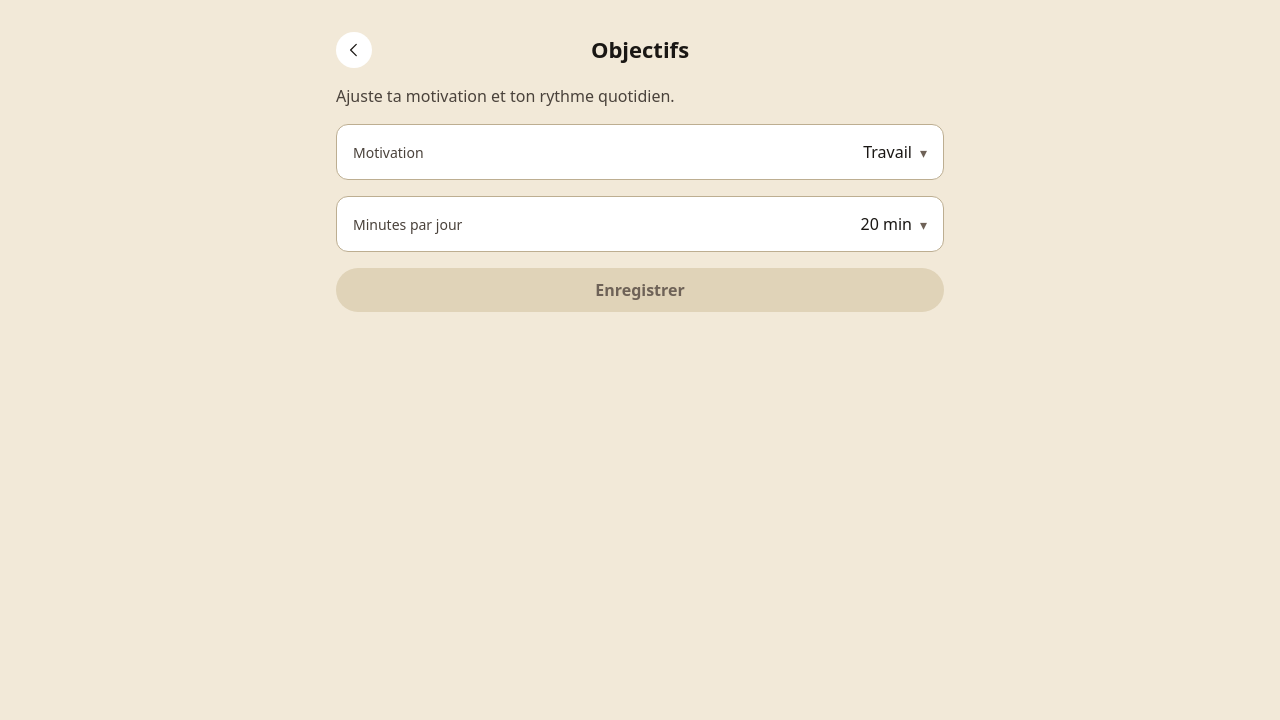
Test: ObjectivesScreen (S11.7) › only the 60-minute schedule option carries the intensif caveat (T7)
Check: the element with test id "settings-objectives-motivation" is shown, box [336,124,944,180]
Click the button with test id "settings-objectives-schedule-trigger" at coordinates (408, 224), box [336,196,944,252]
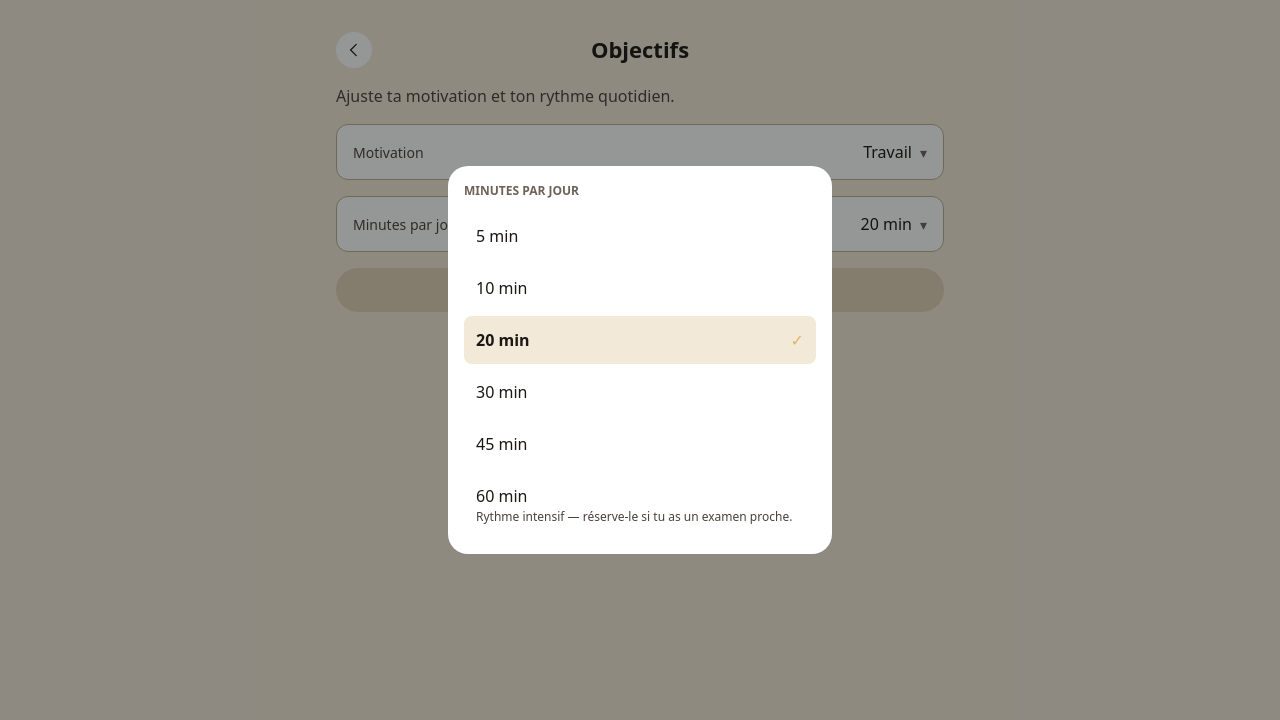
Check: the radio button with test id "settings-objectives-schedule-45" does not show "Rythme intensif — réserve-le si tu as un examen proche.", box [464,420,816,468]
Check: the radio button with test id "settings-objectives-schedule-60" shows "Rythme intensif — réserve-le si tu as un examen proche.", box [464,472,816,538]
